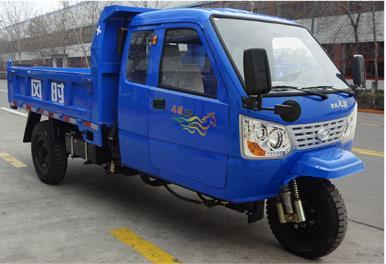tricycle: (12, 8, 361, 254)
